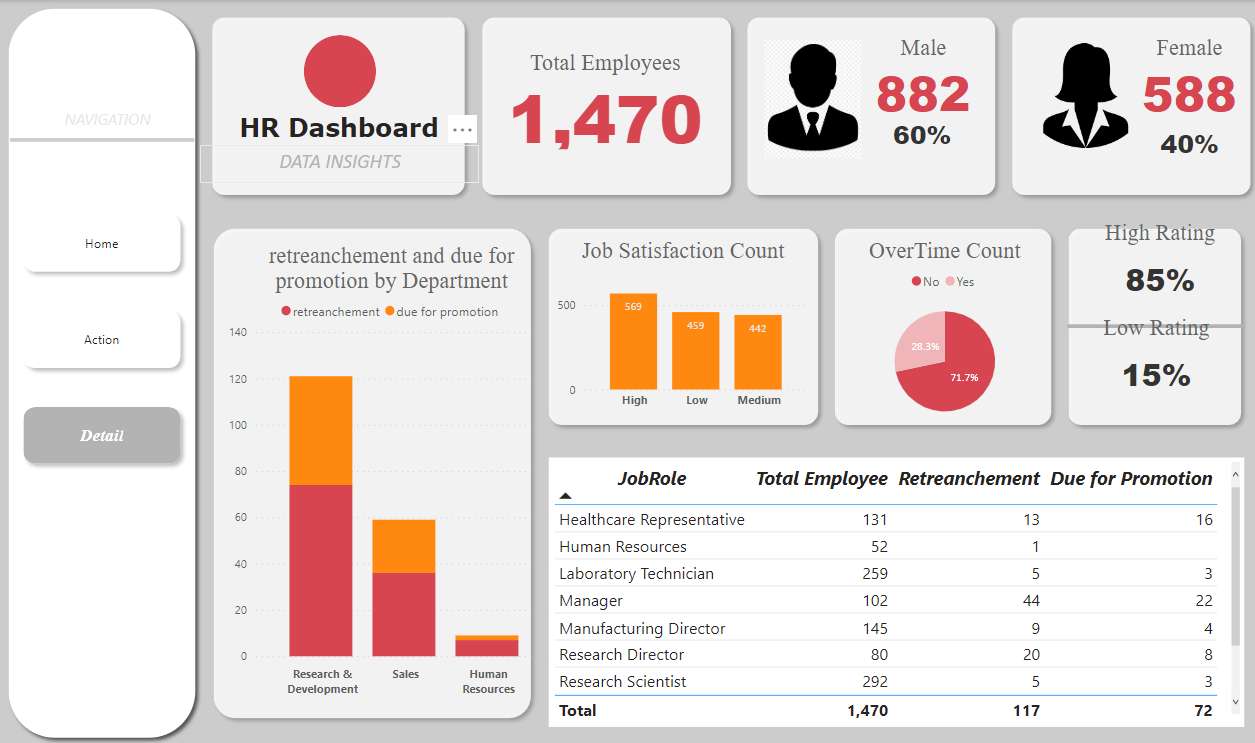

The page's visual inventory and layout, read from the dashboard file:
{"tool":"powerbi","page":{"name":"Detail","canvas":[1350,800],"ordinal":2},"visuals":[{"type":"shape","box":[0,0,218.8,800],"z":0},{"type":"shape","box":[218.8,10,288.8,208.8],"z":1000},{"type":"shape","box":[507.5,10,285,208.8],"z":2000},{"type":"shape","box":[792.5,10,283.8,208.8],"z":3000},{"type":"shape","box":[1076.2,10,273.8,208.8],"z":4000},{"type":"textbox","box":[225,115,276.2,50],"z":5000},{"type":"textbox","box":[213.8,155,300,40],"z":6000},{"type":"shape","box":[325,37.5,77.5,77.5],"z":7000},{"type":"card","title":"Total Employees","fields":{"Values":["All Measures.Total Emp"]},"box":[532.5,53.8,233.8,111.2],"z":8000},{"type":"card","title":"Female","fields":{"Values":["All Measures.Female"]},"box":[1212.2,37.5,125,93.8],"z":9000},{"type":"card","title":"Male","fields":{"Values":["All Measures.% female"]},"box":[1226.2,127.5,98.8,55],"z":10000},{"type":"image","box":[1086.2,31.2,153.8,143.8],"z":11000},{"type":"image","box":[806.2,37.5,128.8,137.5],"z":12000},{"type":"card","title":"Male","fields":{"Values":["All Measures.Male"]},"box":[927.4,37.2,125,93.8],"z":13000},{"type":"card","title":"Male","fields":{"Values":["All Measures.% male"]},"box":[940,118.6,98.6,55.7],"z":14000},{"type":"shape","box":[220,235.7,358.6,542.9],"z":15000},{"type":"columnChart","fields":{"Category":["HR Analytics Data.Department"],"Y":["All Measures.retreanchement","All Measures.due for promotion"]},"box":[240,260,360,494.3],"z":16000},{"type":"shape","box":[578.6,235.7,307.1,228.6],"z":17000},{"type":"shape","box":[885.7,235.7,250,228.6],"z":18000},{"type":"shape","box":[1135.7,235.7,202.9,228.6],"z":19000},{"type":"shape","box":[1144.3,200,190,300],"z":20000},{"type":"clusteredColumnChart","title":"Job Satisfaction Count","fields":{"Category":["HR Analytics Data.Job Satisfaction"],"Y":["All Measures.Total Emp"]},"box":[592.9,254.3,280,192.9],"z":21000},{"type":"pieChart","title":"OverTime Count","fields":{"Category":["HR Analytics Data.OverTime"],"Y":["All Measures.Total Emp"]},"box":[897.1,254.3,232.9,210],"z":22000},{"type":"tableEx","fields":{"Values":["HR Analytics Data.JobRole","All Measures.Total Emp","All Measures.retreanchement","All Measures.due for promotion"]},"box":[588.6,490,745.7,288.6],"z":23000},{"type":"card","title":"High Rating","fields":{"Values":["All Measures.% high"]},"box":[1177.1,235.7,134.3,101.4],"z":24000},{"type":"card","title":"Low Rating","fields":{"Values":["All Measures.% low"]},"box":[1172.9,337.1,134.3,101.4],"z":25000},{"type":"pageNavigator","box":[16.2,221.2,186.2,286.2],"z":26000},{"type":"shape","box":[11.2,0,197.5,300],"z":27000},{"type":"textbox","box":[58.8,111.2,112.5,31.2],"z":28000}]}

Visuals, with their boxes in screenshot pixels (x1, y1, x2, y2), scaled from the page's 1350x800 canvas onto the 1255x743 screenshot:
shape: <box>0,0,203,742</box>
shape: <box>203,9,472,203</box>
shape: <box>472,9,737,203</box>
shape: <box>737,9,1001,203</box>
shape: <box>1000,9,1254,203</box>
textbox: <box>209,107,466,153</box>
textbox: <box>199,144,478,181</box>
shape: <box>302,35,374,107</box>
"Total Employees" card: <box>495,50,712,153</box>
"Female" card: <box>1127,35,1243,122</box>
"Male" card: <box>1140,118,1232,169</box>
image: <box>1010,29,1153,163</box>
image: <box>749,35,869,163</box>
"Male" card: <box>862,35,978,122</box>
"Male" card: <box>874,110,966,162</box>
shape: <box>205,219,538,723</box>
columnChart - HR Analytics Data.Department x All Measures.retreanchement: <box>223,241,558,701</box>
shape: <box>538,219,823,431</box>
shape: <box>823,219,1056,431</box>
shape: <box>1056,219,1244,431</box>
shape: <box>1064,186,1240,464</box>
"Job Satisfaction Count" clusteredColumnChart: <box>551,236,811,415</box>
"OverTime Count" pieChart: <box>834,236,1050,431</box>
tableEx - HR Analytics Data.JobRole x All Measures.Total Emp: <box>547,455,1240,723</box>
"High Rating" card: <box>1094,219,1219,313</box>
"Low Rating" card: <box>1090,313,1215,407</box>
pageNavigator: <box>15,205,188,471</box>
shape: <box>10,0,194,279</box>
textbox: <box>55,103,159,132</box>
